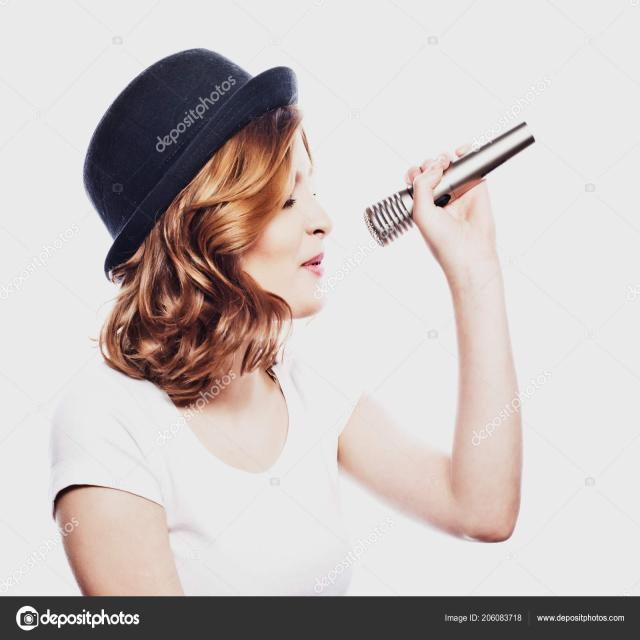hat: (83, 45, 333, 322)
